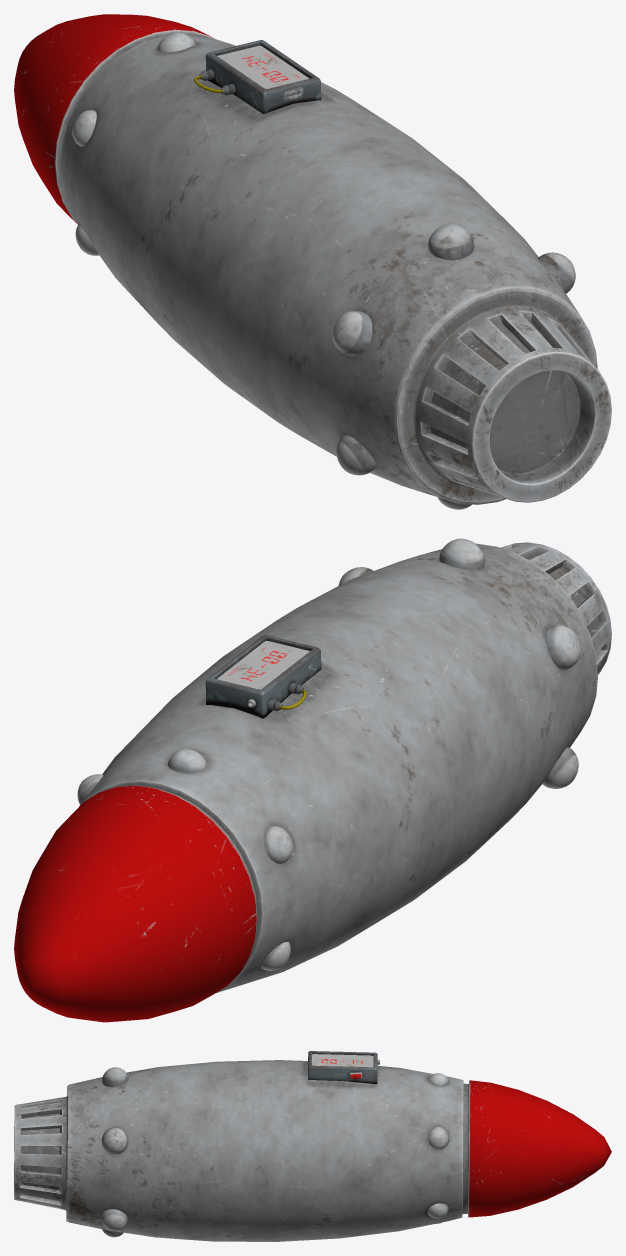
Rendered from Missile.fbx.
The picture shows the model from 3 angles, top to bottom: view 1: azimuth 30°, elevation 25°; view 2: azimuth 150°, elevation 25°; view 3: azimuth 270°, elevation 25°; orthographic projection. The views are drawn at different scales.
Visible parts, largest first — view 1: rocket; view 2: rocket; view 3: rocket.
Boxes of the visible parts, left/top/right/bottom form: rocket: left=14, top=14, right=611, bottom=509; rocket: left=14, top=538, right=611, bottom=1022; rocket: left=14, top=1051, right=611, bottom=1241.
Bounding box in the file's own units: 112 × 121 × 369.
